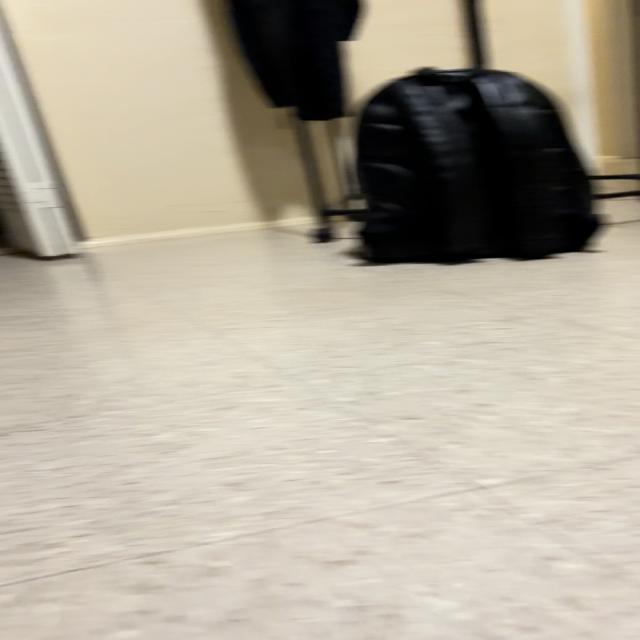backpack: (358, 68, 598, 262)
